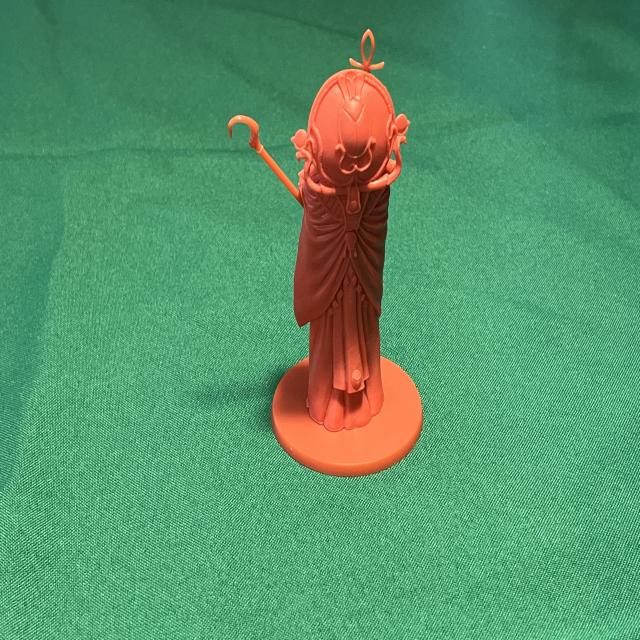amon: (222, 20, 430, 482)
